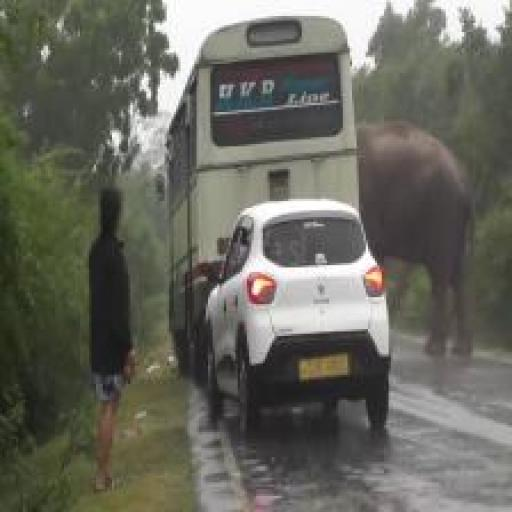Elephant: (356, 114, 486, 369)
